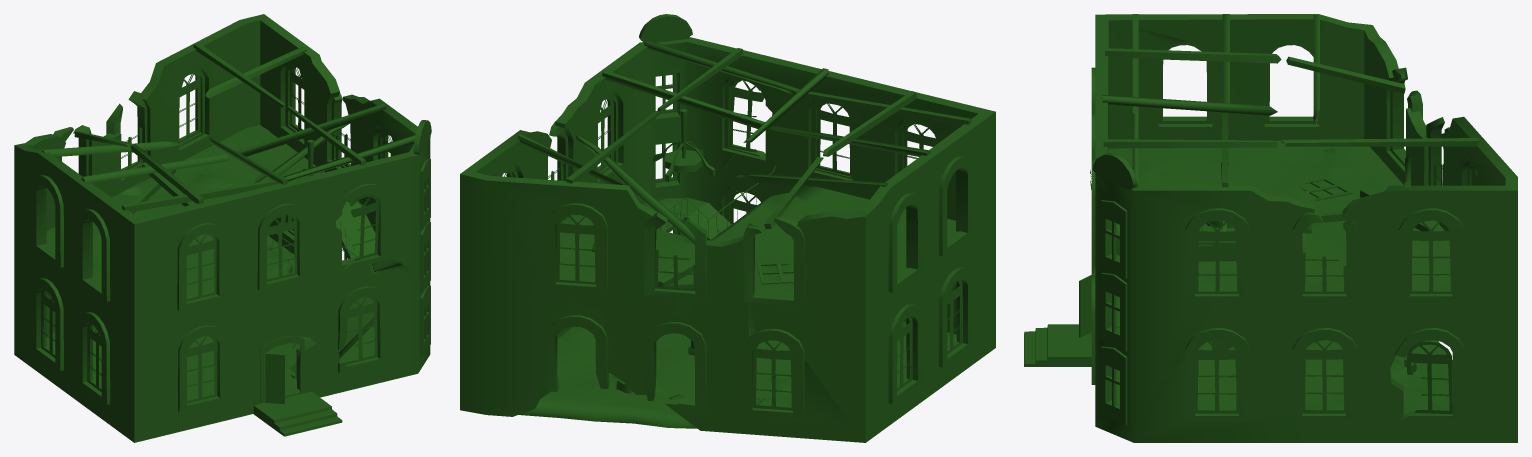
File: Building_City_01Collision.FBX
The picture shows the model from 3 angles, left to right: view 1: azimuth 30°, elevation 25°; view 2: azimuth 150°, elevation 25°; view 3: azimuth 270°, elevation 25°; orthographic projection. The views are drawn at different scales.
Visible parts, largest first — view 1: Building_City_01Collision; view 2: Building_City_01Collision; view 3: Building_City_01Collision.
Boxes of the visible parts, x1,y1,x2,y2 form: Building_City_01Collision: [14, 14, 431, 442]; Building_City_01Collision: [460, 14, 995, 442]; Building_City_01Collision: [1024, 14, 1517, 442].
Size of the model in its own units: 1566 by 1790 by 1118.
